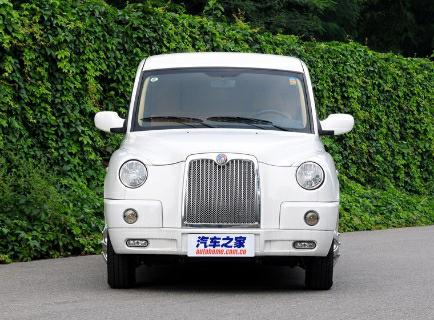吉利汽车-英伦TX4: (92, 47, 363, 297)
